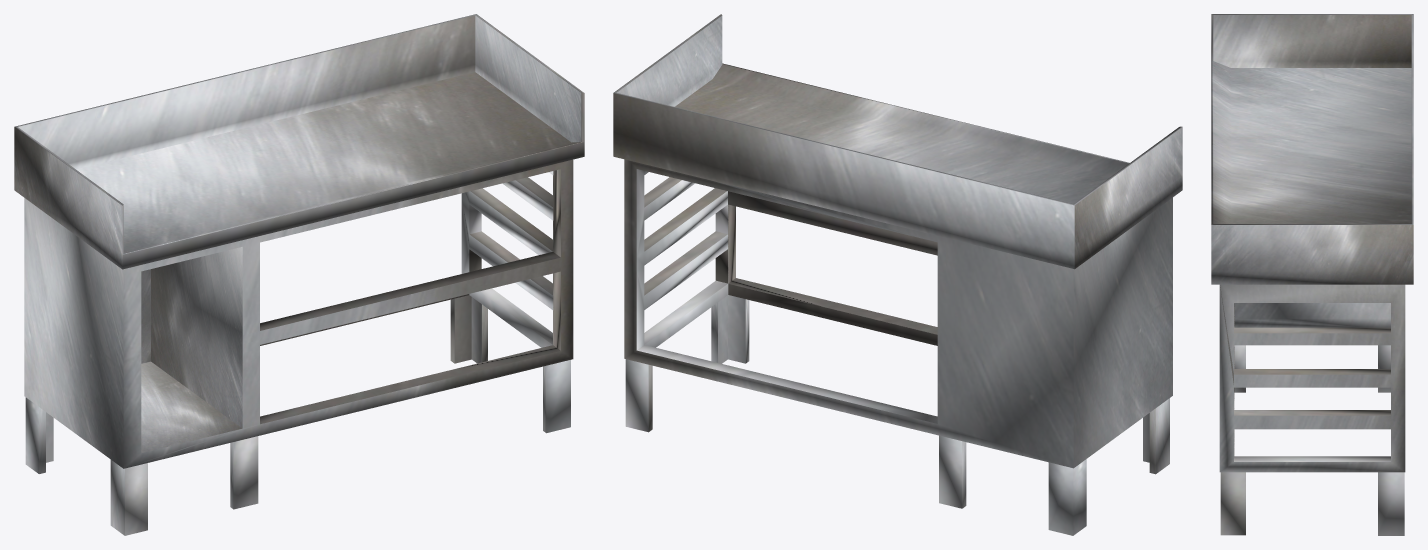
Rendered from WorkStationFlat_Galley.obj.
3 views of the same model, side by side, from view 1: azimuth 30°, elevation 25°; view 2: azimuth 150°, elevation 25°; view 3: azimuth 270°, elevation 25° (orthographic). The views are drawn at different scales.
Visible parts, largest first — view 1: WorkStationFlat_Galley.obj; view 2: WorkStationFlat_Galley.obj; view 3: WorkStationFlat_Galley.obj.
Boxes of the visible parts, <box> form: WorkStationFlat_Galley.obj: <box>14,14,584,535</box>; WorkStationFlat_Galley.obj: <box>613,14,1182,535</box>; WorkStationFlat_Galley.obj: <box>1211,14,1413,535</box>.
Size of the model in its own units: 16.04 by 11.14 by 6.5.
